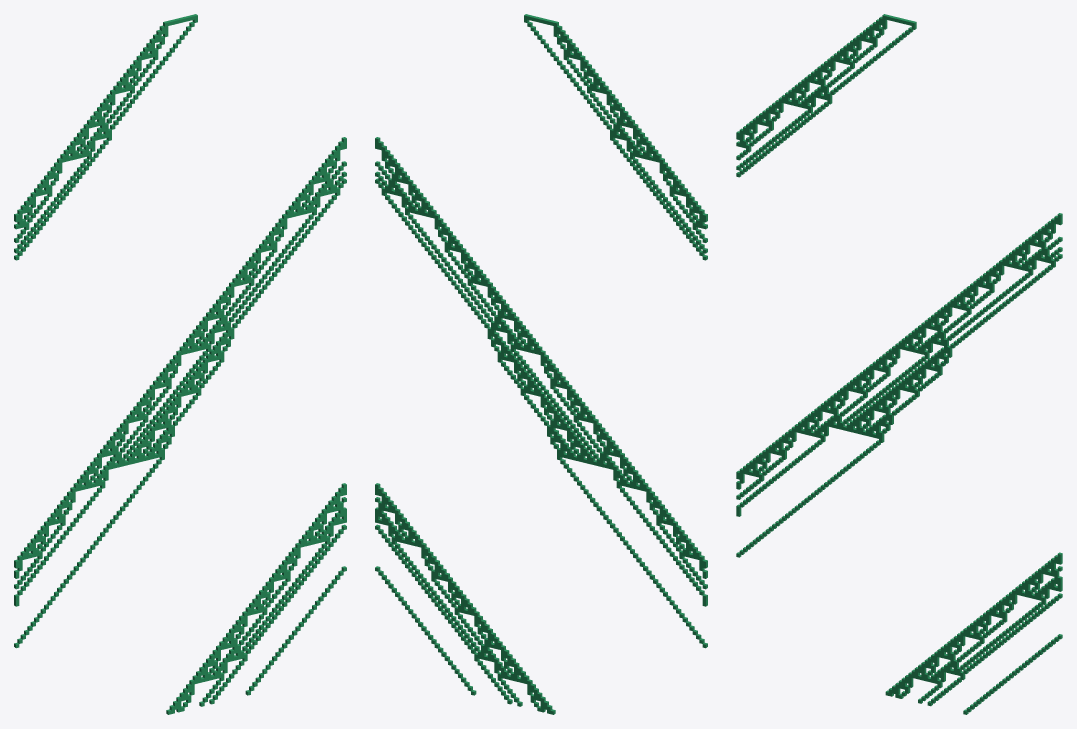
Rendered from rule169.obj.
3 renders of one model, left to right at view 1: azimuth 30°, elevation 25°; view 2: azimuth 150°, elevation 25°; view 3: azimuth 330°, elevation 25°, orthographic.
Bounding box in the file's own units: 100 × 200 × 1.
